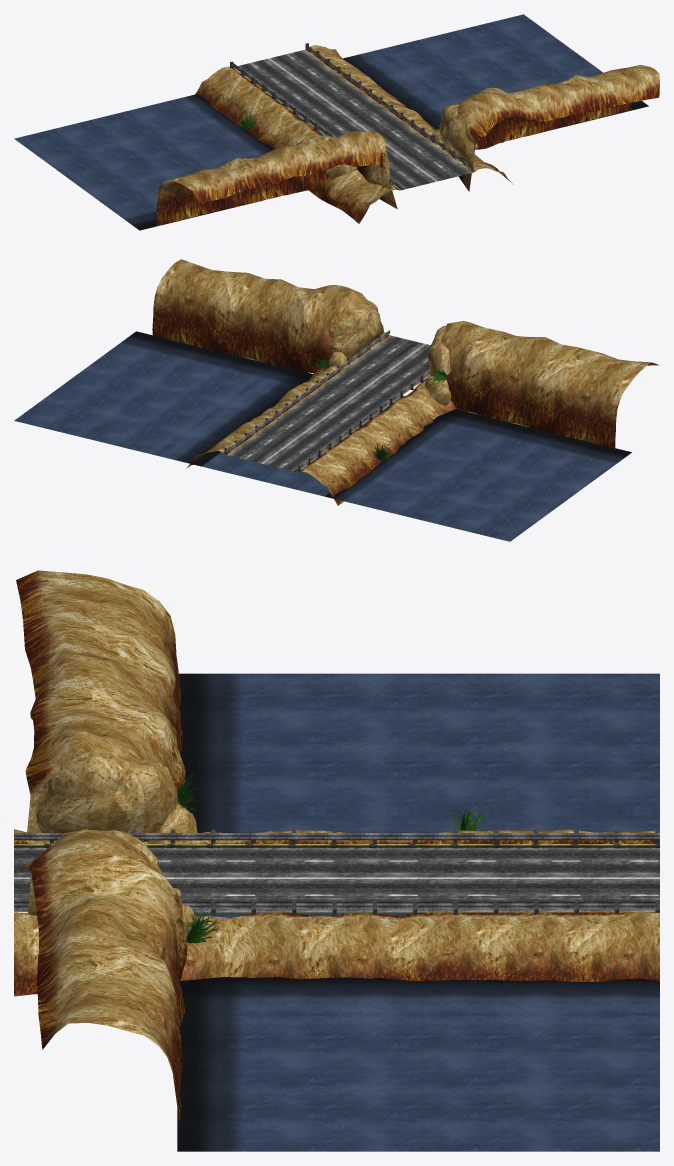
The model's file is scene3_end.FBX.
3 views of the same model, one above another, from view 1: azimuth 30°, elevation 25°; view 2: azimuth 150°, elevation 25°; view 3: azimuth 270°, elevation 25° (orthographic). The views are drawn at different scales.
Visible parts, largest first — view 1: scene3_end, stone wal, road016, Box058, Box059; view 2: scene3_end, stone wal, road016, Box058, Box059, Box061; view 3: scene3_end, stone wal, road016, Box058, Box059, Box061.
Boxes of the visible parts, box(x1,y1,x2,y2) form: scene3_end: box(14, 14, 648, 230); stone wal: box(156, 65, 659, 226); road016: box(230, 43, 473, 190); Box058: box(195, 45, 513, 223); Box059: box(326, 103, 477, 191); scene3_end: box(14, 331, 631, 541); stone wal: box(152, 259, 659, 448); road016: box(224, 330, 430, 472); Box058: box(186, 332, 468, 505); Box059: box(328, 306, 451, 405); Box061: box(313, 355, 447, 462); scene3_end: box(177, 673, 659, 1151); stone wal: box(16, 570, 187, 1130); road016: box(14, 829, 659, 914); Box058: box(14, 829, 659, 996); Box059: box(29, 755, 197, 936); Box061: box(176, 773, 485, 943).
Bounding box in the file's own units: 140 × 21.38 × 80.01.
